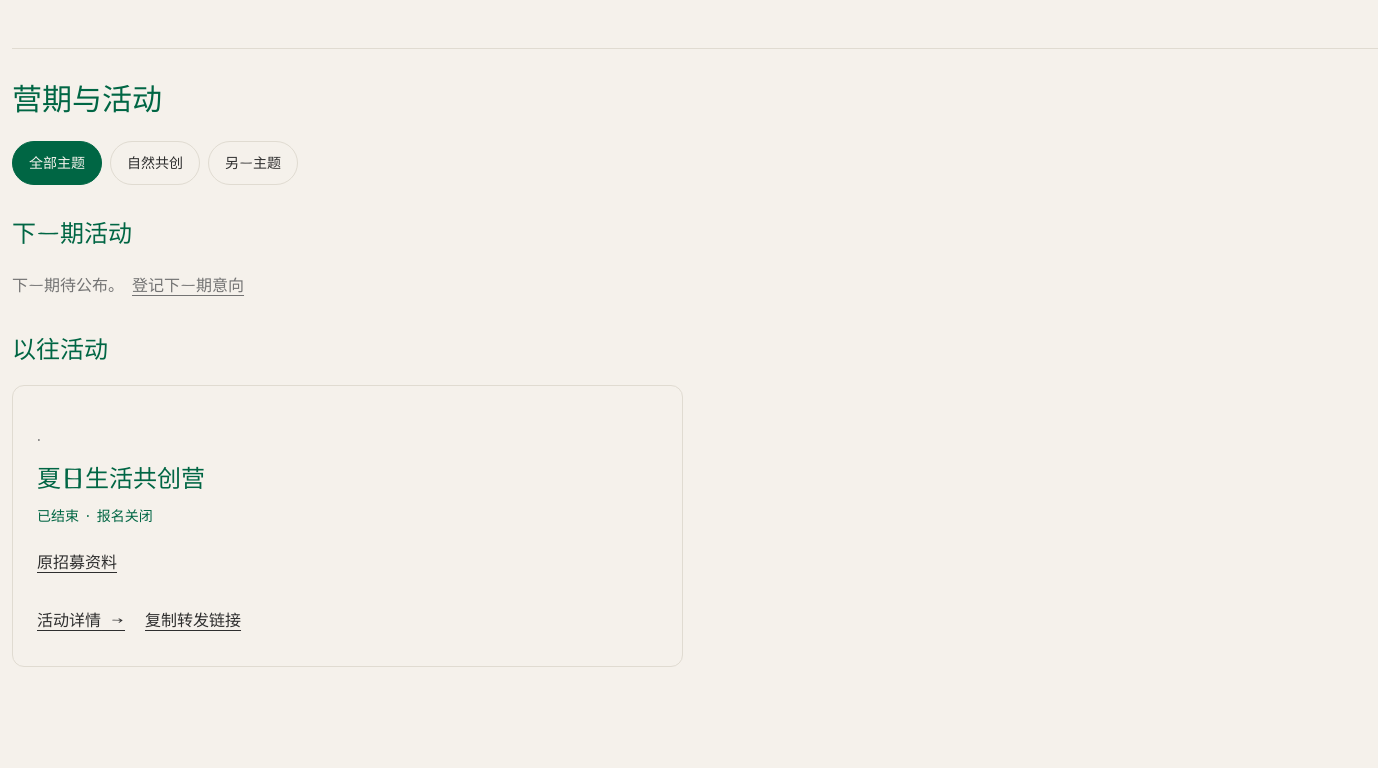
Scenario: filters sessions by product category
This screenshot has width=1378, height=768.
What coordinates should you click on to do the following:
click the button "另一主题"
I would click on:
 (253, 163)
Its box is [208,141,298,185].
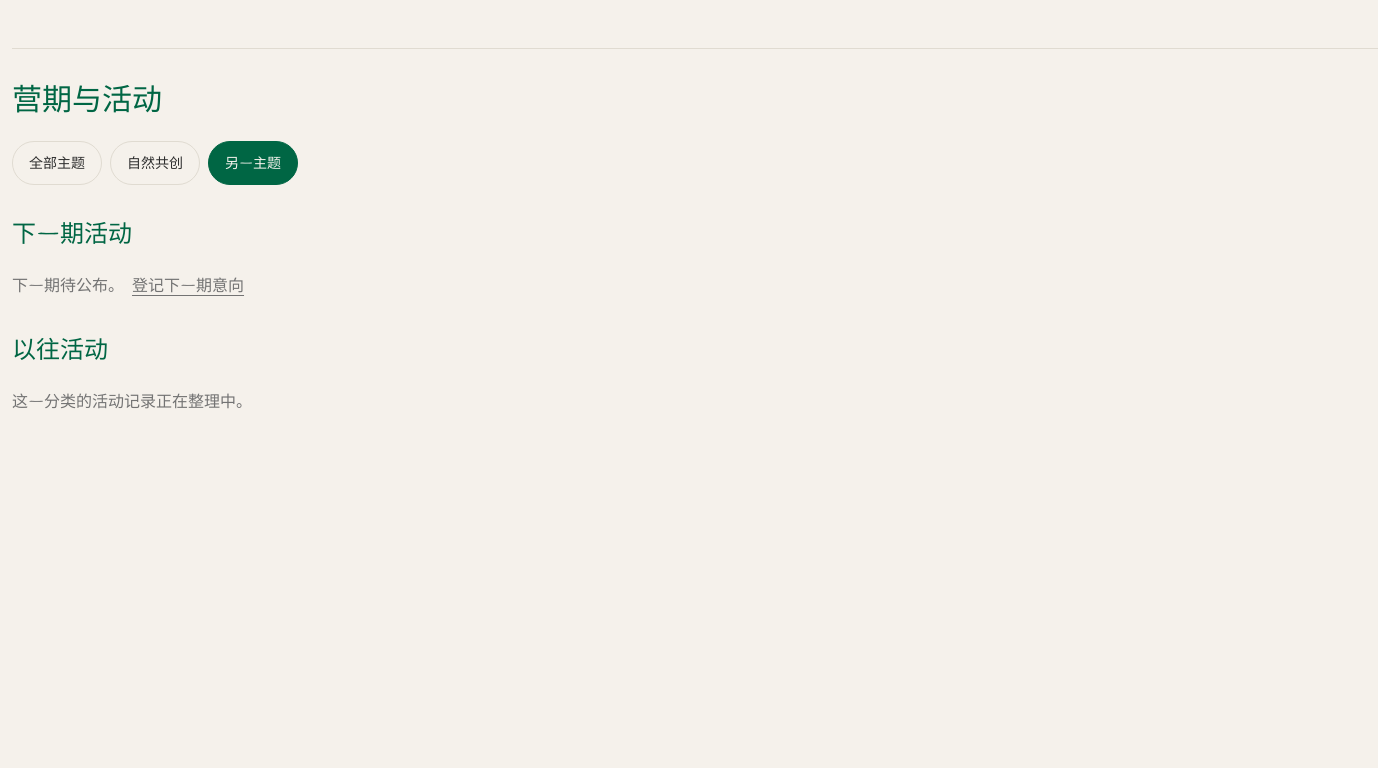
Result: the link "夏日生活共创营" is gone
